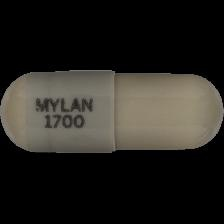0378-1700: (0, 0, 224, 224)
